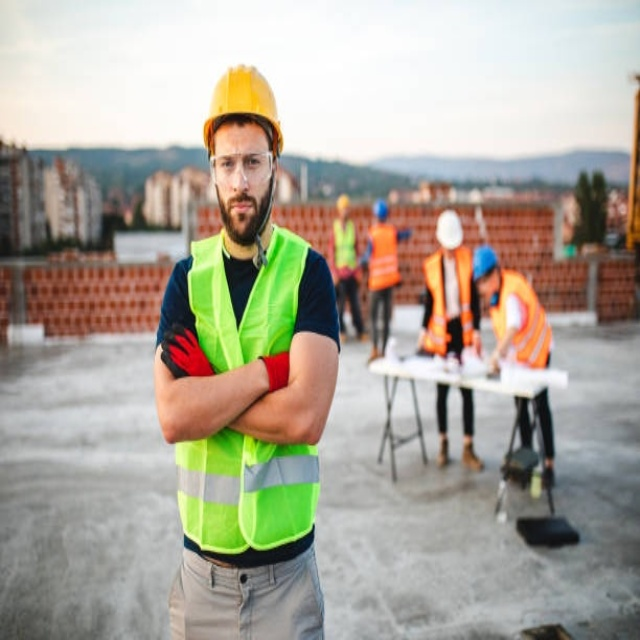Gafas: (211, 149, 276, 190)
Guantes: (160, 323, 216, 377), (259, 351, 290, 393)
Sin_mascara: (225, 196, 256, 229)
